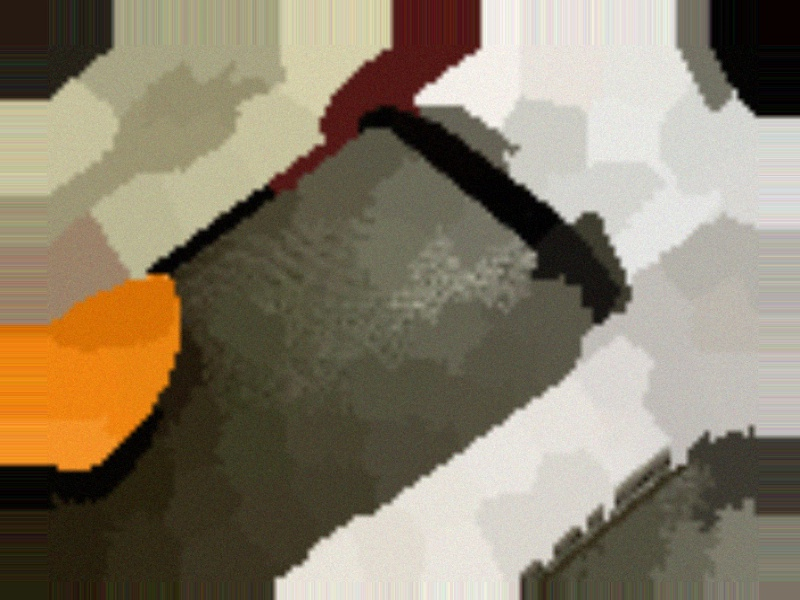dish11: (0, 240, 248, 507)
